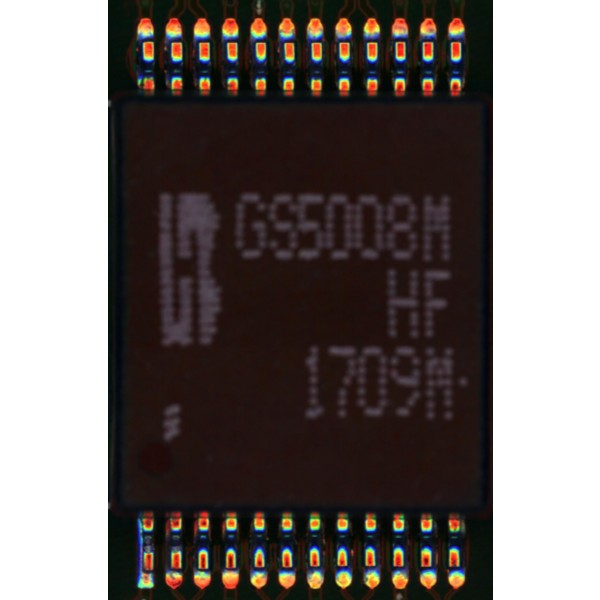Bad_qiaojiao: (138, 517, 143, 574)
